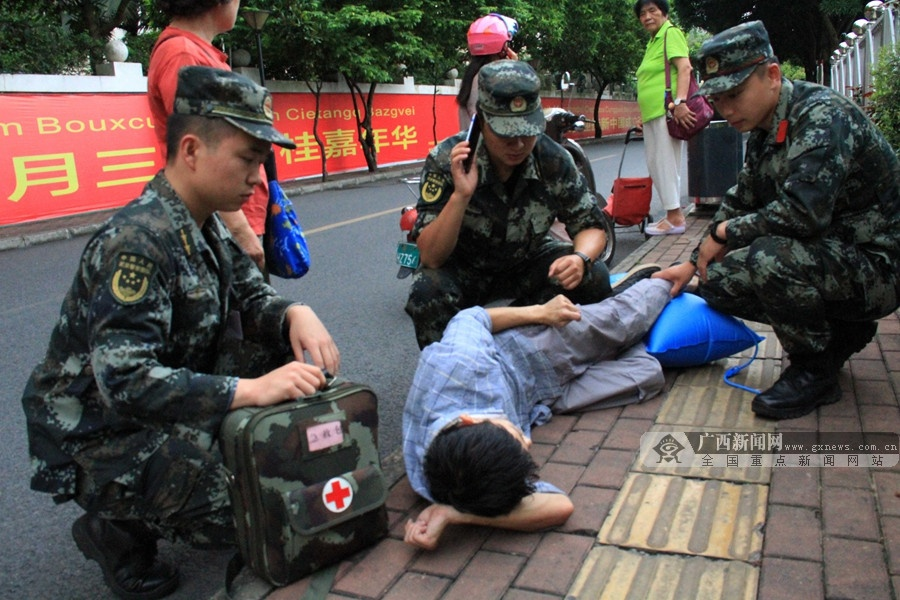falling: (379, 236, 715, 566)
